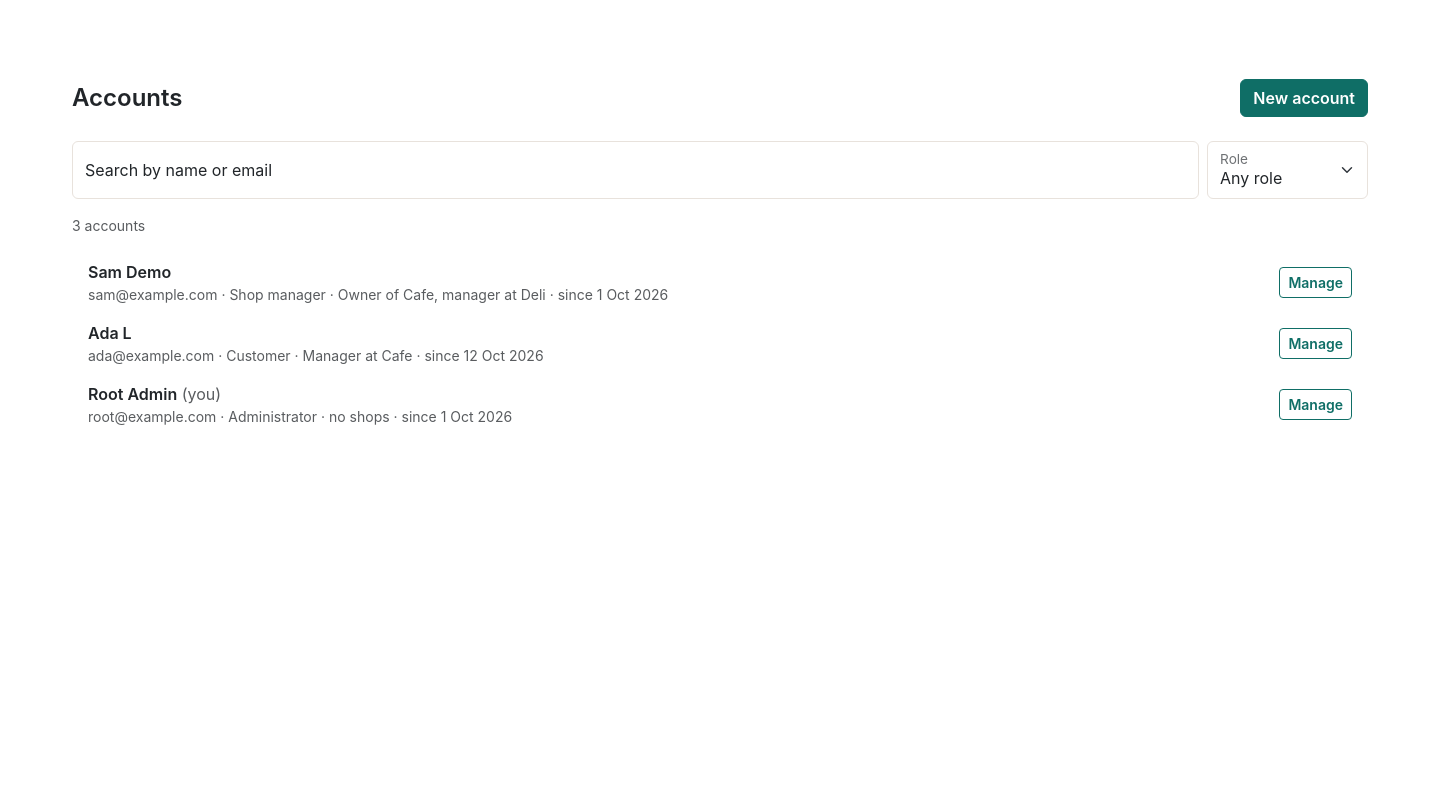
Test: an account's dialog › shows the API's refusal of a role
The image size is (1440, 810).
Click the button with aria-label "Manage Ada L". click: (1316,344)
box: [1279,328,1352,359]
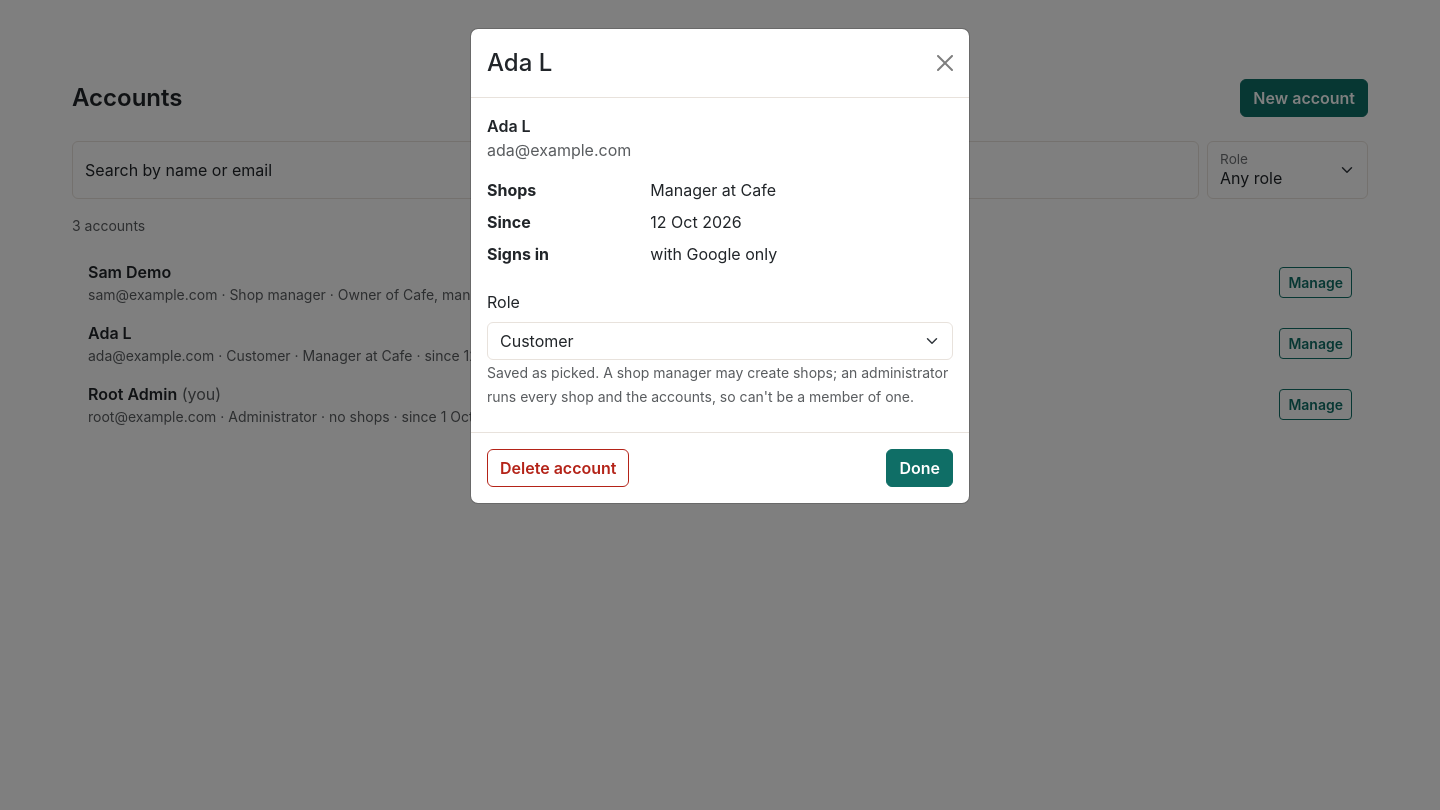
Select "Administrator" in the dropdown labelled "Role". click: (720,341)
box: [487,322,953,360]
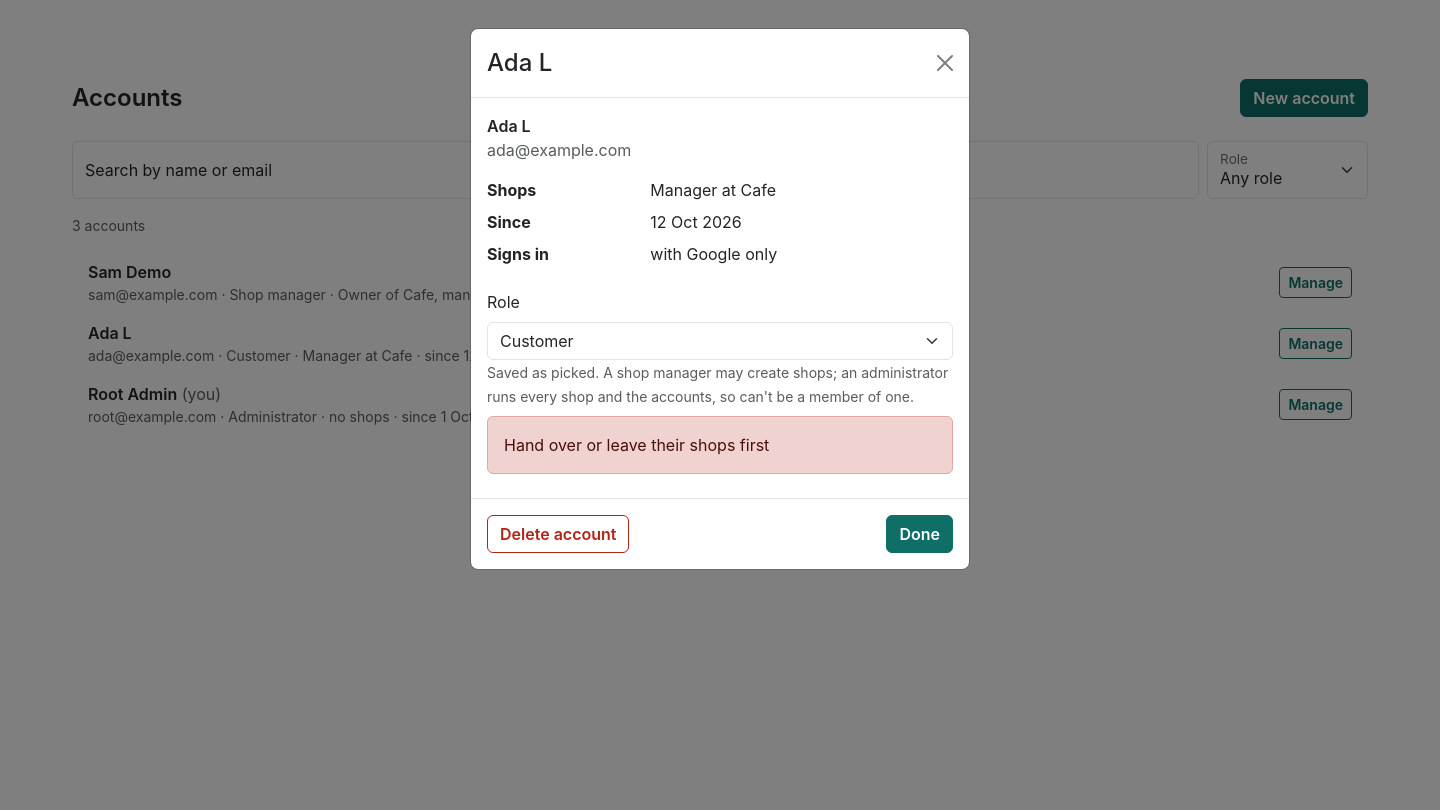
expect the text "Hand over or leave their shops first" is shown: met, box [487,416,953,474]
